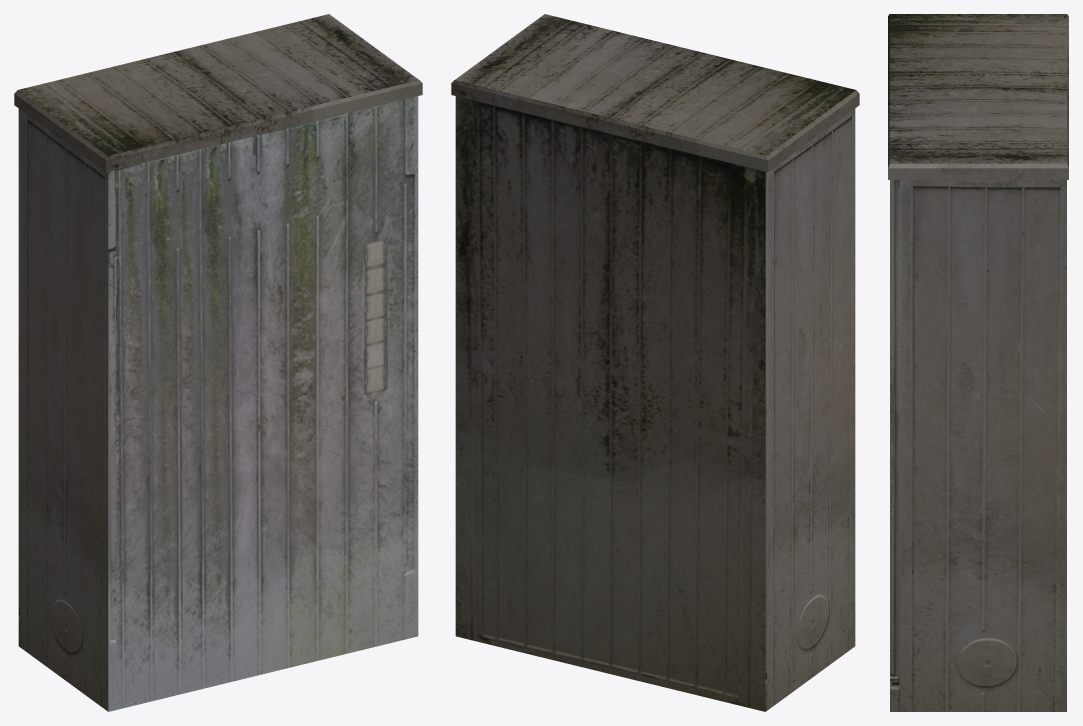
The model's file is electro_box.fbx.
The picture shows the model from 3 angles, left to right: view 1: azimuth 30°, elevation 25°; view 2: azimuth 150°, elevation 25°; view 3: azimuth 270°, elevation 25°; orthographic projection.
Visible parts, largest first — view 1: Cube; view 2: Cube; view 3: Cube.
Boxes of the visible parts, box(x1,y1,x2,y2) form: Cube: box(14, 14, 422, 711); Cube: box(451, 14, 859, 711); Cube: box(888, 14, 1068, 711).
Size of the model in its own units: 0.5144 by 0.8659 by 0.2579.
